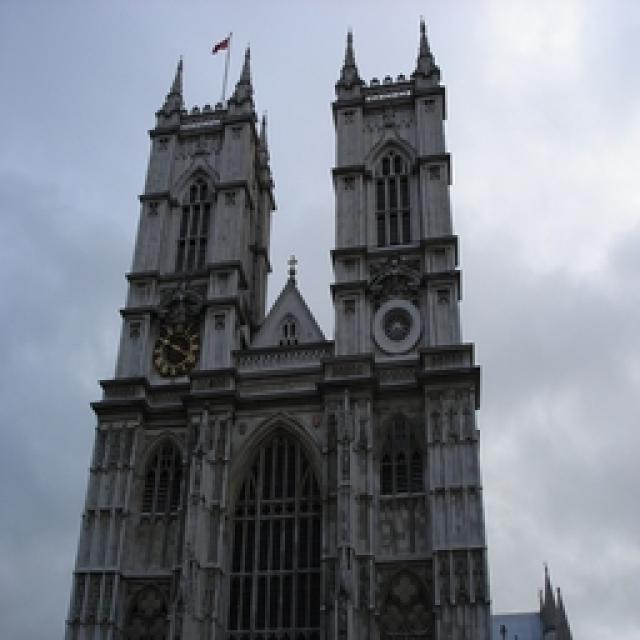Abbey: (101, 5, 514, 640)
